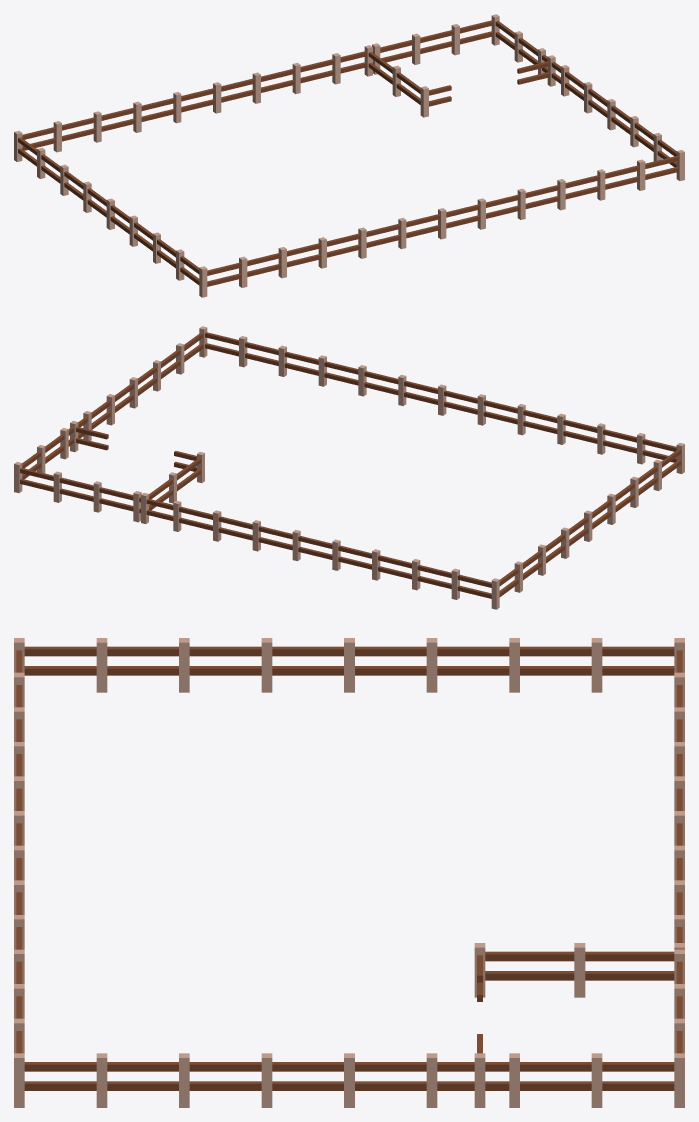
The model's file is fence.glb.
The picture shows the model from 3 angles, top to bottom: view 1: azimuth 30°, elevation 25°; view 2: azimuth 150°, elevation 25°; view 3: azimuth 270°, elevation 25°; orthographic projection. The views are drawn at different scales.
Parts seen in each view (by area): view 1: Fence; view 2: Fence; view 3: Fence.
Part boxes in pixels (left/top/right/bottom): Fence: left=14, top=14, right=684, bottom=297; Fence: left=14, top=326, right=684, bottom=609; Fence: left=14, top=638, right=684, bottom=1107.
Bounding box in the file's own units: 12.94 × 0.72 × 8.74.
